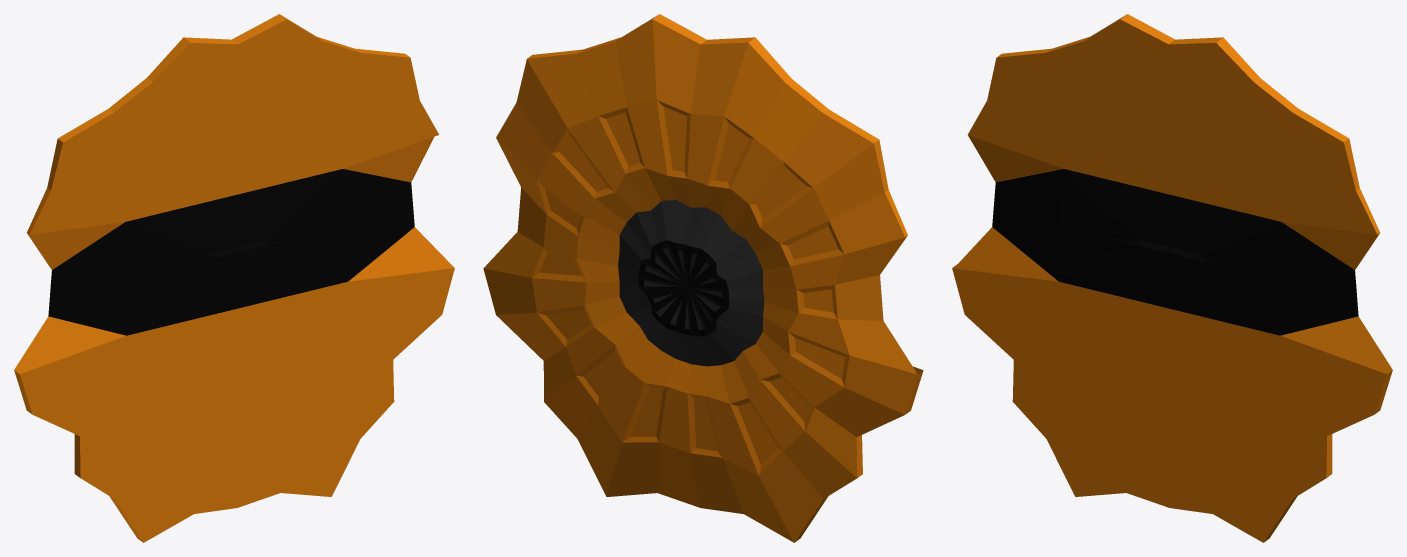
File: BronzeShield.fbx
3 renders of one model, left to right at view 1: azimuth 30°, elevation 25°; view 2: azimuth 150°, elevation 25°; view 3: azimuth 330°, elevation 25°, orthographic.
Parts seen in each view (by area): view 1: Shield; view 2: Shield; view 3: Shield.
Boxes of the visible parts, x1,y1,x2,y2 form: Shield: (14, 14, 454, 542); Shield: (483, 14, 923, 542); Shield: (952, 14, 1392, 542).
Bounding box in the file's own units: 436 × 469 × 51.83.
